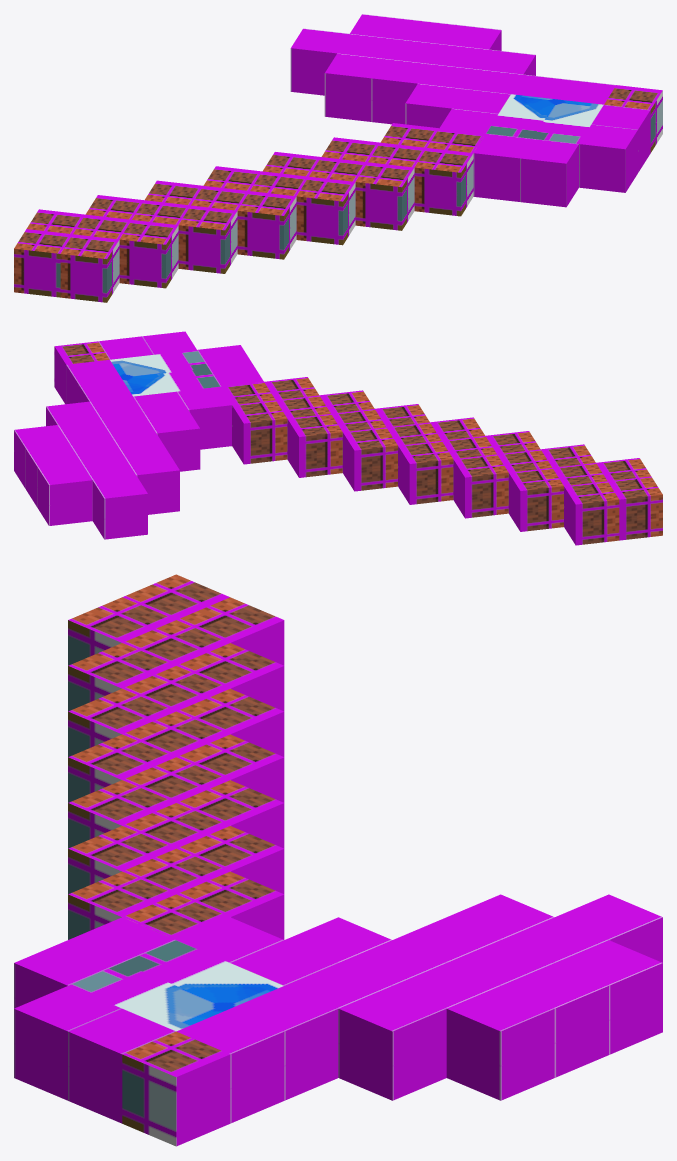
Rendered from hoe_aquamarine.obj.
3 views of the same model, one above another, from view 1: azimuth 30°, elevation 25°; view 2: azimuth 150°, elevation 25°; view 3: azimuth 270°, elevation 25° (orthographic). The views are drawn at different scales.
Visible parts, largest first — view 1: Cube.375_Cube.487; view 2: Cube.375_Cube.487; view 3: Cube.375_Cube.487.
Part boxes in pixels (x1,y1,x2,y2): Cube.375_Cube.487: (14, 14, 662, 302); Cube.375_Cube.487: (14, 331, 662, 545); Cube.375_Cube.487: (14, 574, 662, 1146).
Bounding box in the file's own units: 15.56 × 1 × 8.49.
